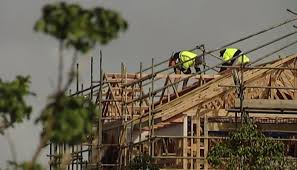high-vis: (221, 47, 248, 62), (179, 50, 196, 65)
